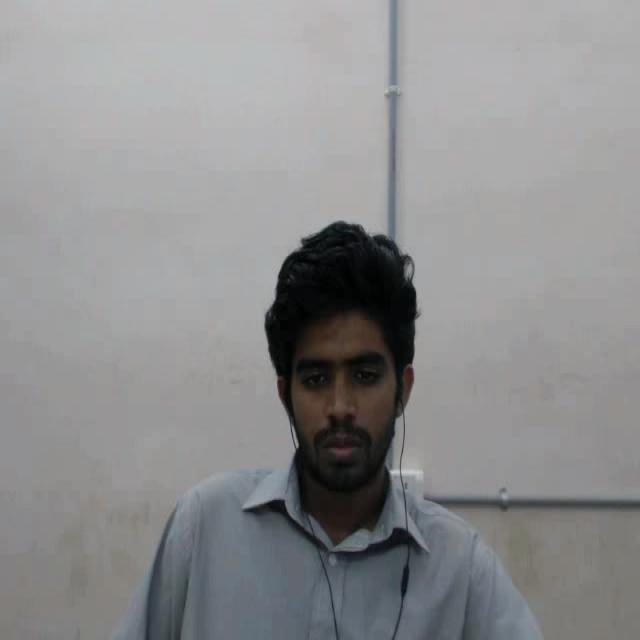Bored: (254, 186, 464, 553)
